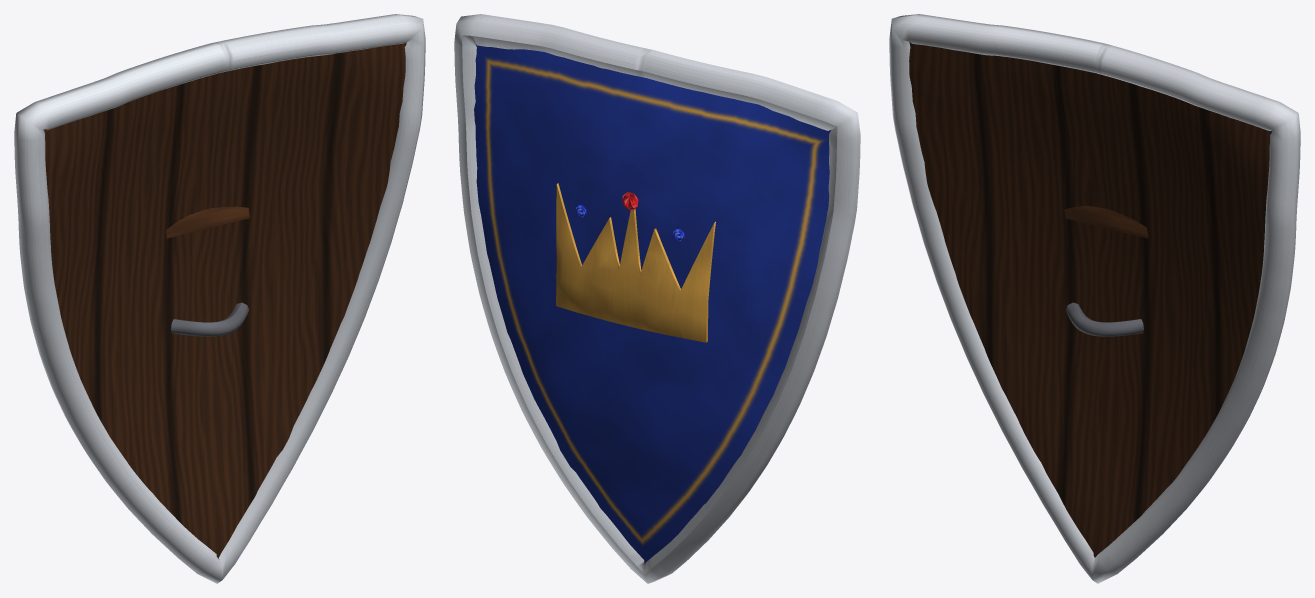
The model's file is PolishedRoyalShield.glb.
3 renders of one model, left to right at view 1: azimuth 30°, elevation 25°; view 2: azimuth 150°, elevation 25°; view 3: azimuth 330°, elevation 25°, orthographic.
Parts seen in each view (by area): view 1: PolishedRoyalShield; view 2: PolishedRoyalShield; view 3: PolishedRoyalShield.
Part boxes in pixels (x1,y1,x2,y2): PolishedRoyalShield: (14, 14, 425, 583); PolishedRoyalShield: (454, 14, 860, 583); PolishedRoyalShield: (889, 14, 1300, 583).
Size of the model in its own units: 2.14 by 2.71 by 0.366.
1 material, 1 textured.
